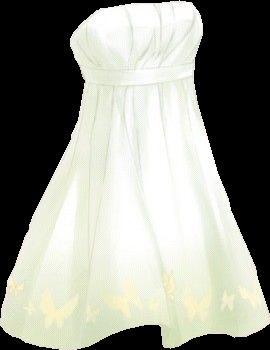Bodice: (70, 1, 202, 86)
Hemline: (0, 319, 269, 349)
Neckline: (67, 0, 191, 42), (80, 54, 194, 70)
Skirt: (0, 78, 269, 349)
Waistline: (84, 74, 193, 87)
